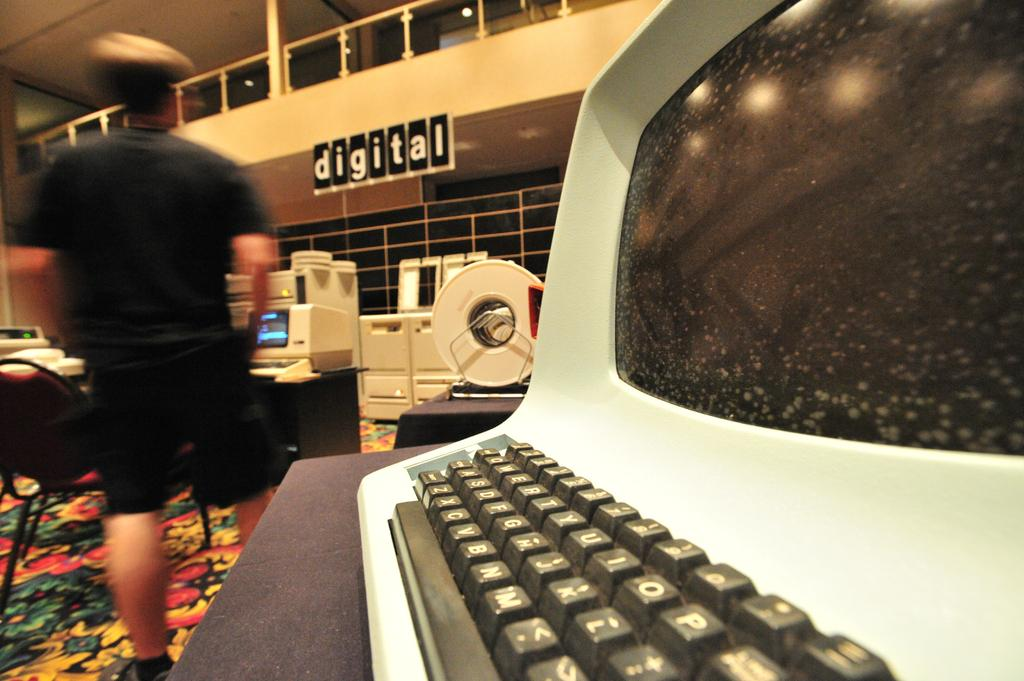Computer-keyboard: (388, 440, 897, 680), (252, 357, 294, 369)
